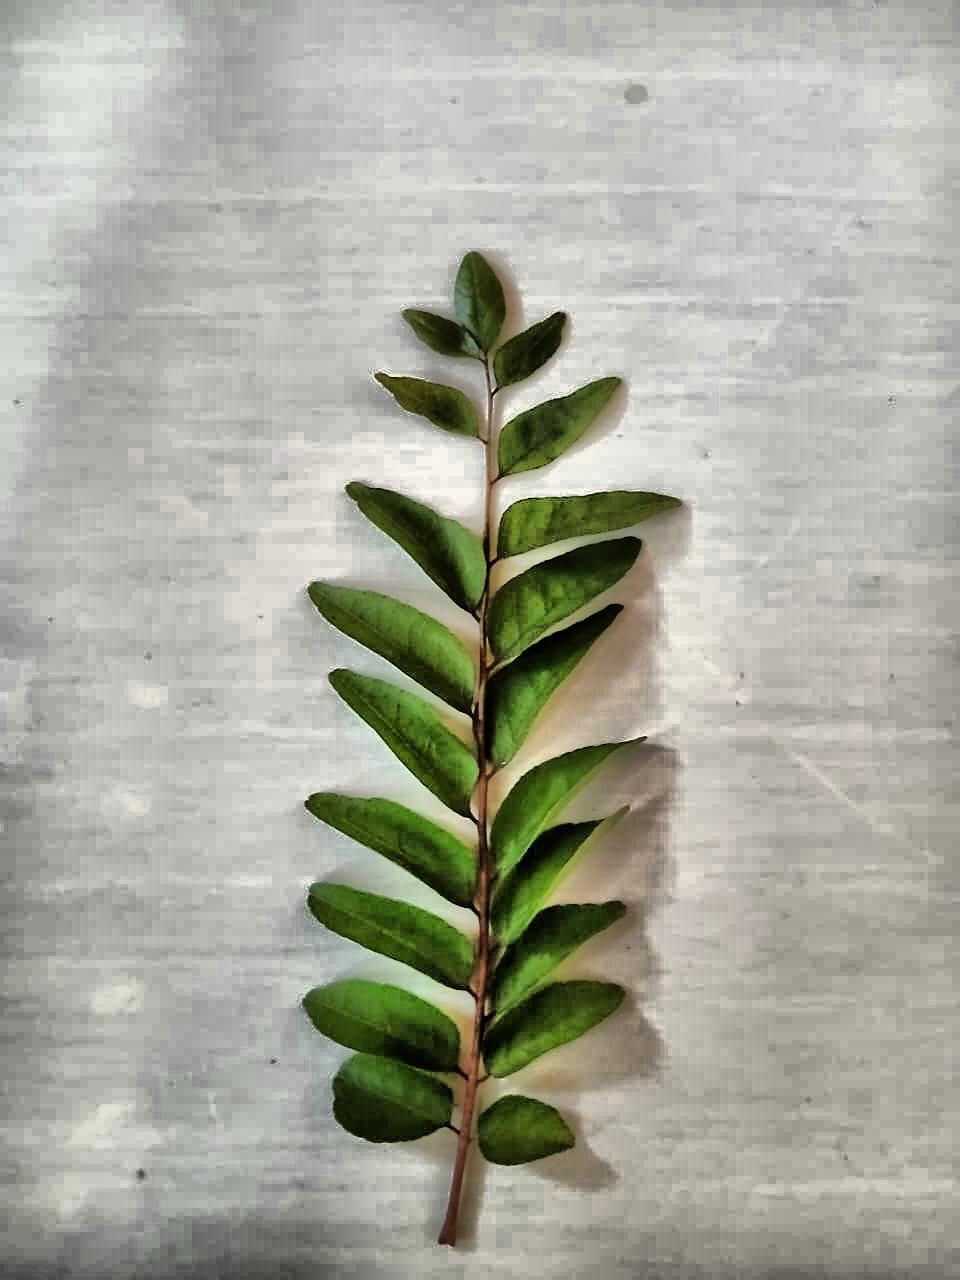daun kari: (305, 253, 682, 1245)
